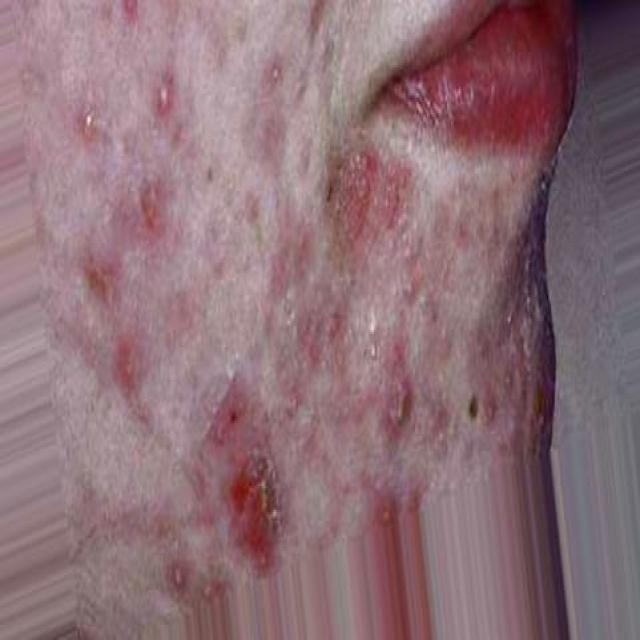acne: (223, 413, 287, 551), (348, 136, 408, 228), (250, 46, 318, 116), (140, 44, 180, 142), (398, 229, 440, 320), (381, 334, 412, 446), (110, 326, 152, 400), (85, 246, 131, 312), (132, 164, 176, 230), (76, 100, 112, 152)
